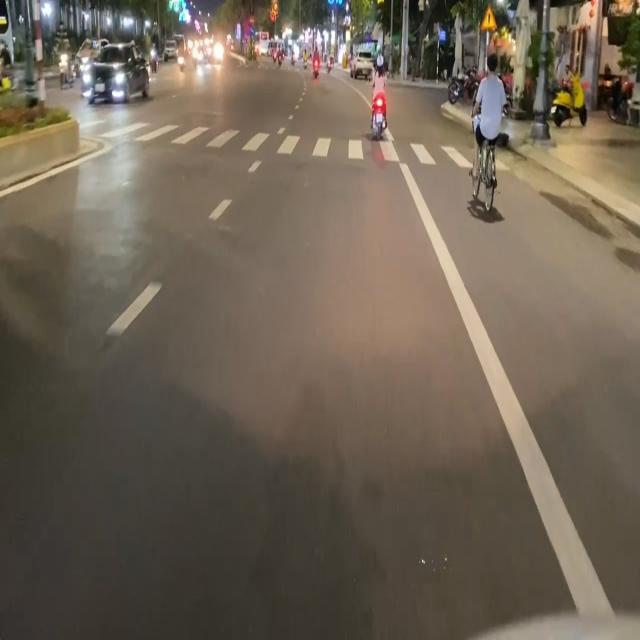walk-crossing: (112, 119, 519, 174)
